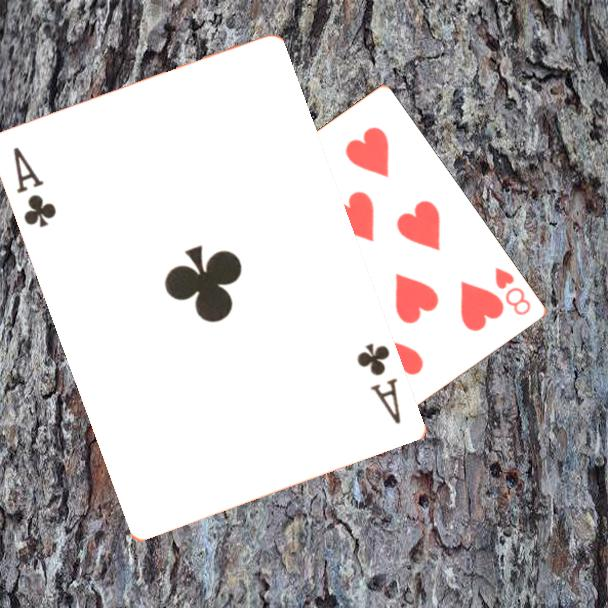c01: (353, 340, 405, 428), (10, 144, 60, 231)
h08: (491, 264, 533, 318)
